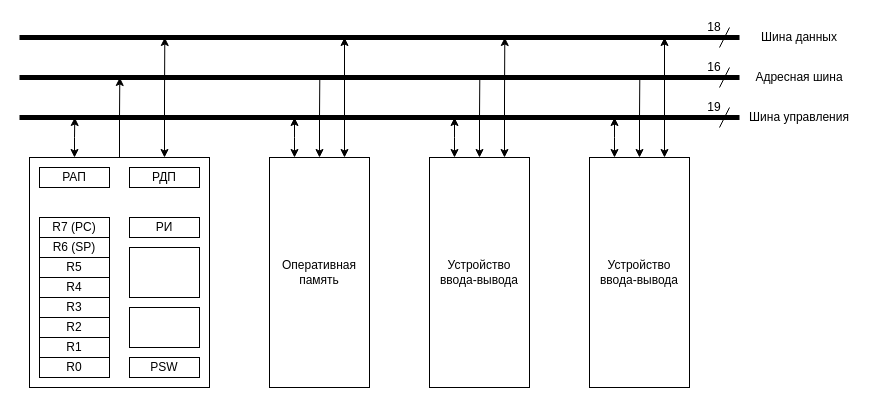
The diagram is 877 pixels wide and 405 high, and some of its shapes have lost their labels. The shapes that lost their labels are listed below. From the top down, each one's box as (x1, y1, x2, y2) in pixels, then its label:
(128, 246, 200, 298): Устройство управления
(128, 306, 200, 348): АЛУ
